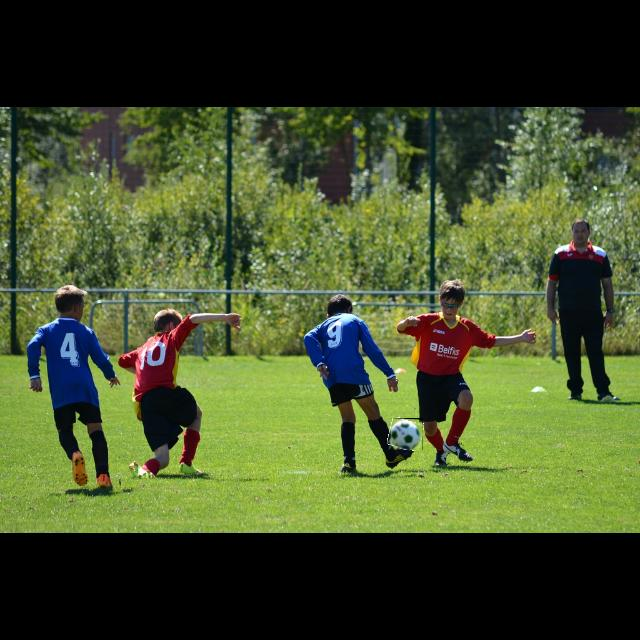Football: (389, 418, 423, 450)
